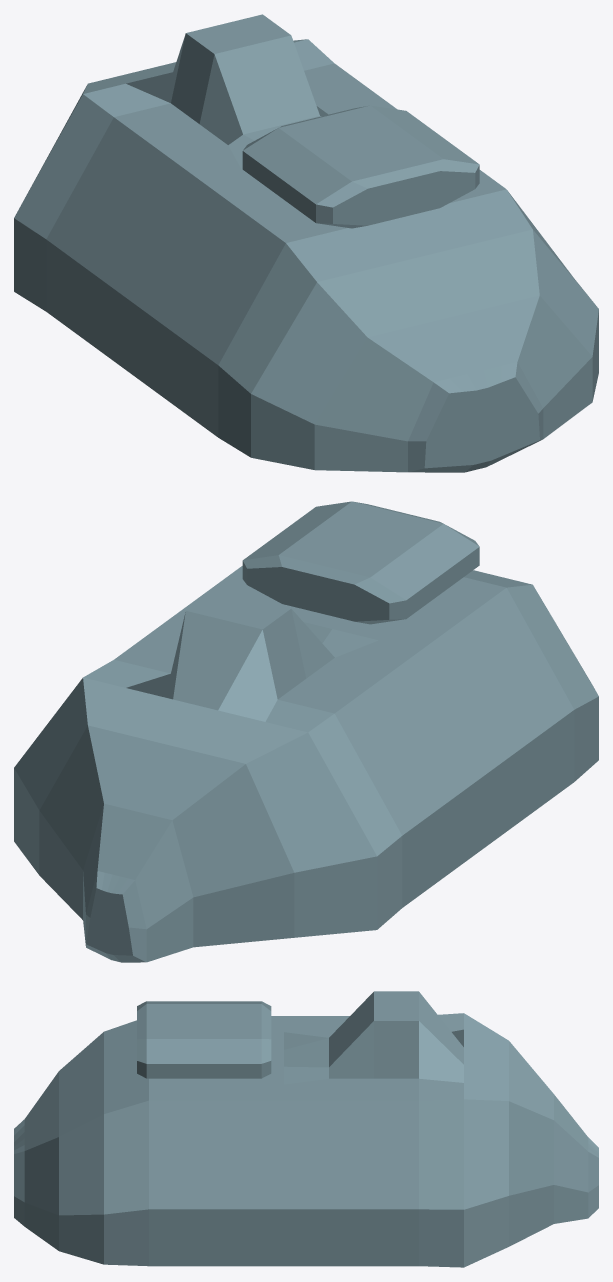
Rendered from ballard_medium_b.glb.
3 views of the same model, one above another, from view 1: azimuth 30°, elevation 25°; view 2: azimuth 150°, elevation 25°; view 3: azimuth 270°, elevation 25° (orthographic). The views are drawn at different scales.
Visible parts, largest first — view 1: ballard_medium_b; view 2: ballard_medium_b; view 3: ballard_medium_b.
Part boxes in pixels (<box>): ballard_medium_b: <box>14,14,598,472</box>; ballard_medium_b: <box>14,501,598,962</box>; ballard_medium_b: <box>14,991,598,1267</box>.
Bounding box in the file's own units: 3.6 × 2.48 × 6.4.
